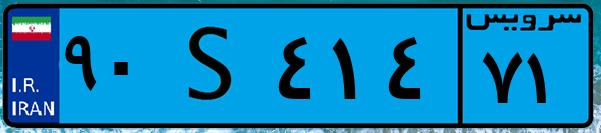0: (110, 28, 158, 98)
1: (330, 28, 385, 110), (525, 38, 570, 115)
4: (270, 28, 330, 110), (385, 28, 445, 110)
7: (475, 38, 525, 113)
9: (57, 26, 110, 100)
S: (158, 12, 270, 120)
